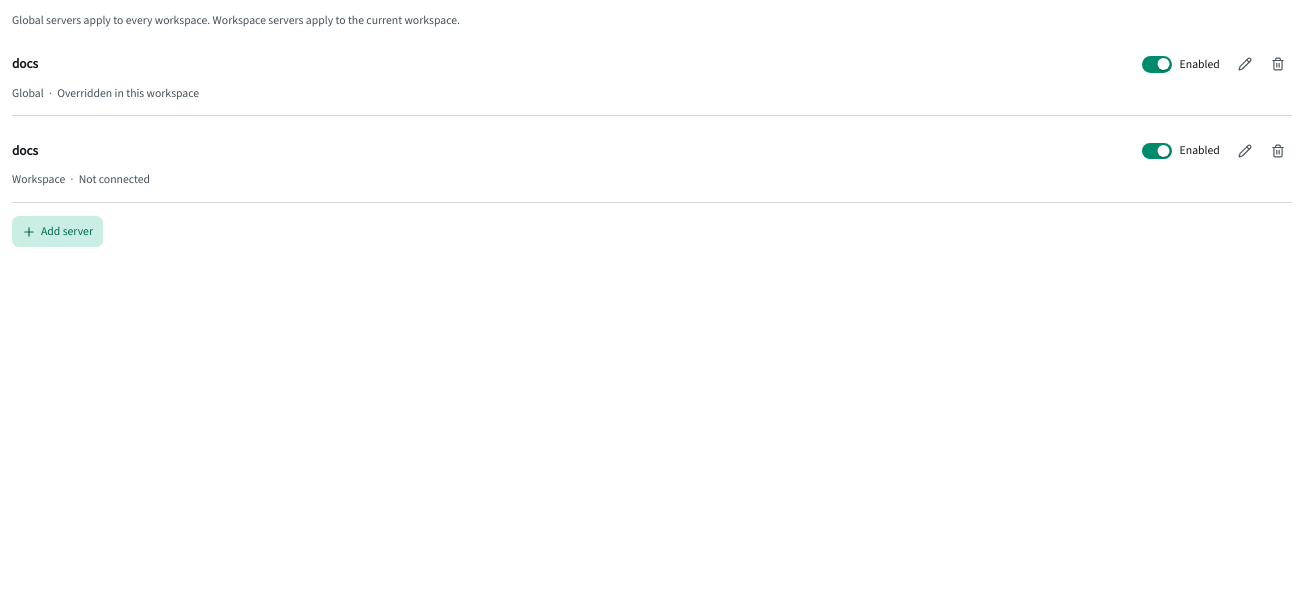
it: McpSettingsPanel › prevents moving into an existing name with Global set to false
Click the 1st button named "Edit docs" at (1245, 64), box [1231,50,1258,78]
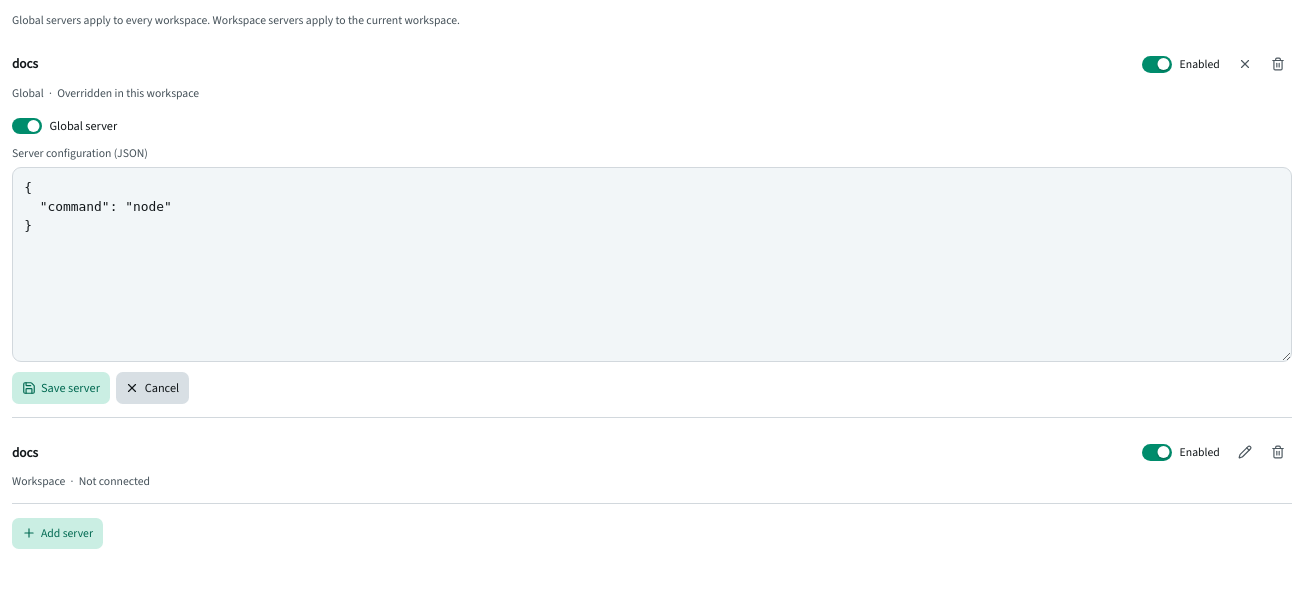
Click the switch named "Global server" at (65, 126), box [12,118,117,134]
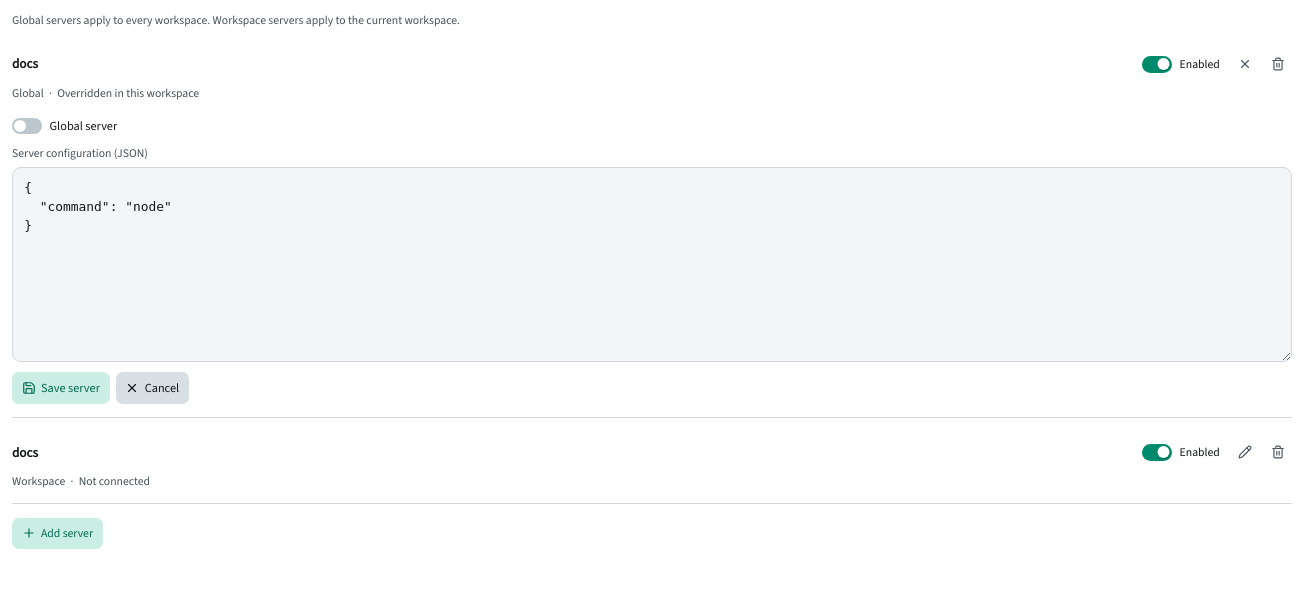
Submit the form with class "mcp-settings__form", box [12,109,1292,404]
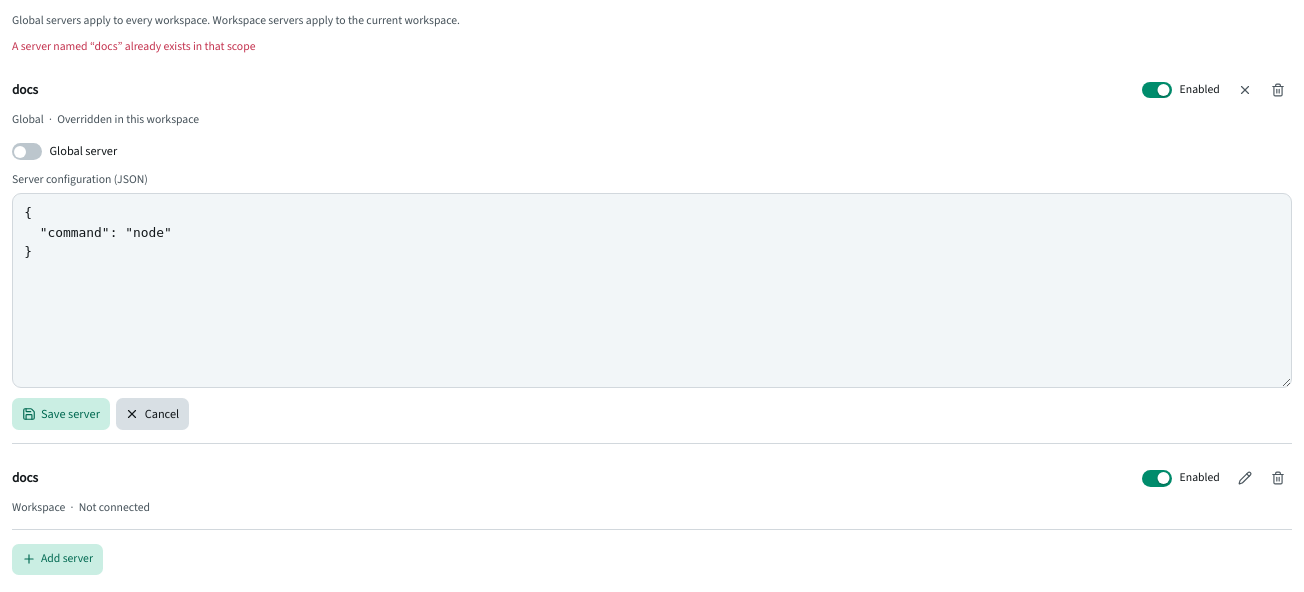
Expected: the form with class "mcp-settings__form" is shown, [12,135,1292,430]
Expected: the text "already exists in that scope" is shown, [12,38,256,54]
